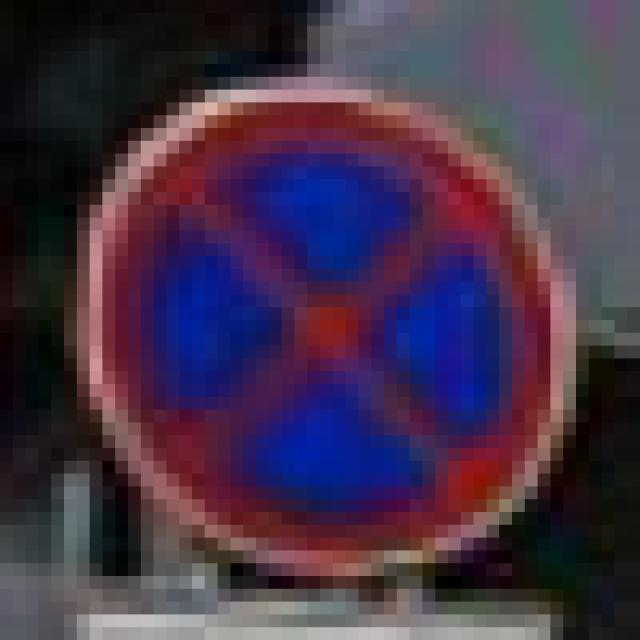no stopping or standing: (62, 82, 576, 573)
